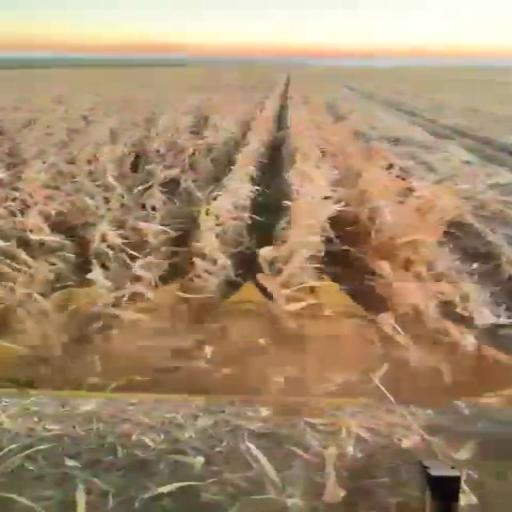misir: (1, 56, 512, 399)
